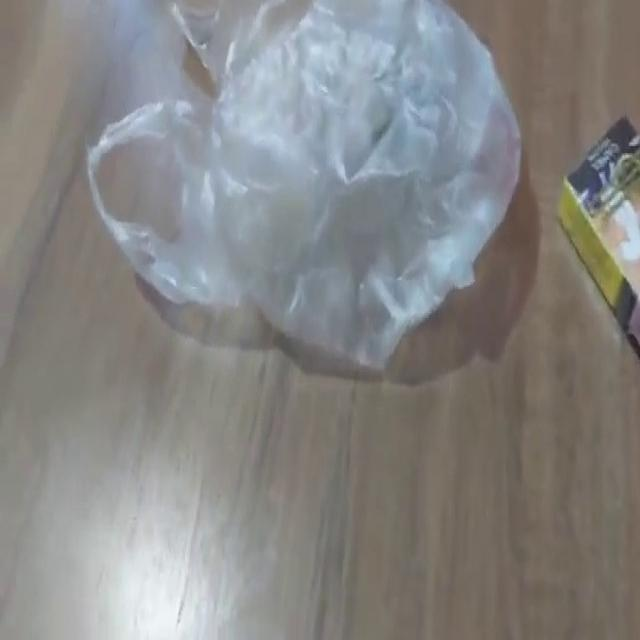Anorganik: (82, 1, 525, 382)
Organik: (555, 106, 640, 365)
